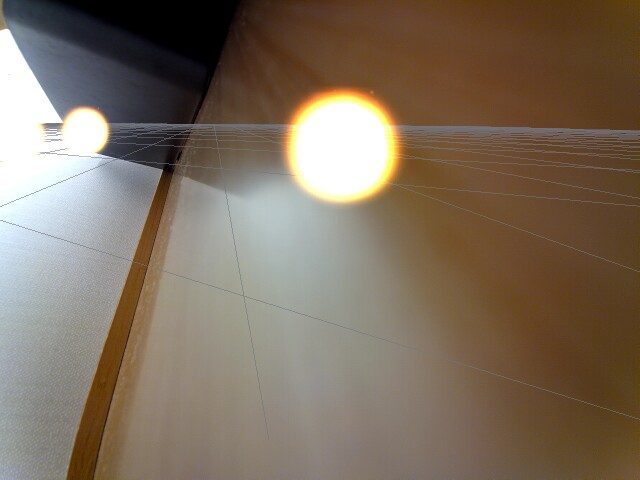firebig: (274, 85, 410, 211)
